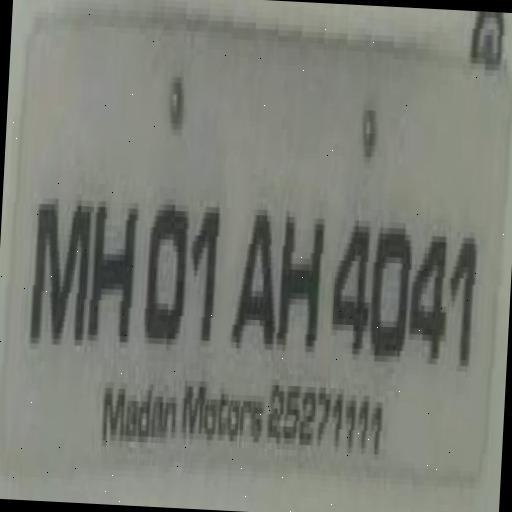number plate: (0, 10, 500, 465)
